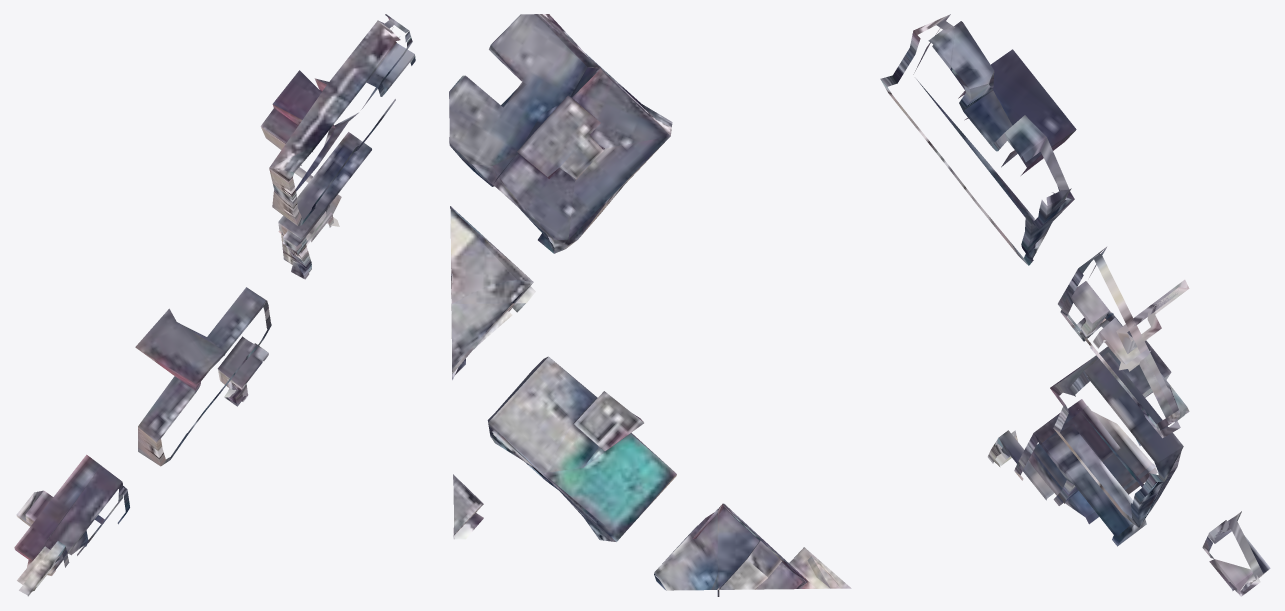
3 views of the same model, side by side, from view 1: azimuth 30°, elevation 25°; view 2: azimuth 150°, elevation 25°; view 3: azimuth 270°, elevation 25° (orthographic). The views are drawn at different scales.
Size of the model in its own units: 59.77 by 71.1 by 37.95.
Materials: 1 (1 with a texture image).
